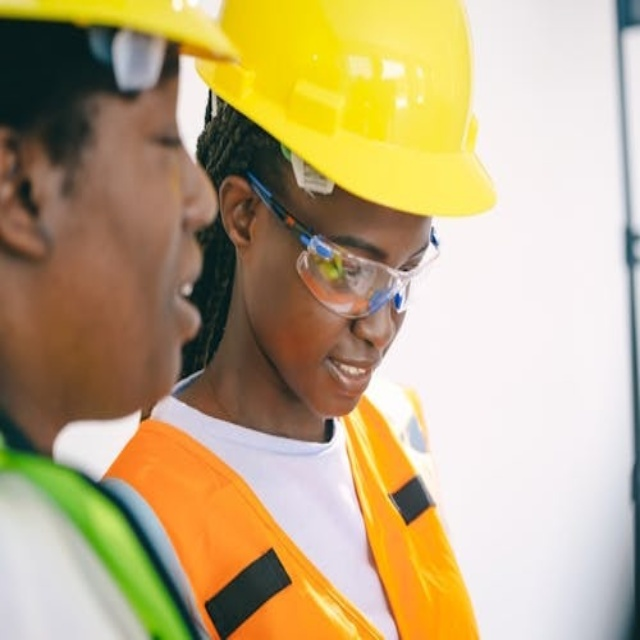Gafas: (243, 159, 442, 321)
Sin_gafas: (100, 94, 200, 189)
Sin_mascara: (114, 247, 212, 355), (294, 329, 387, 413)
